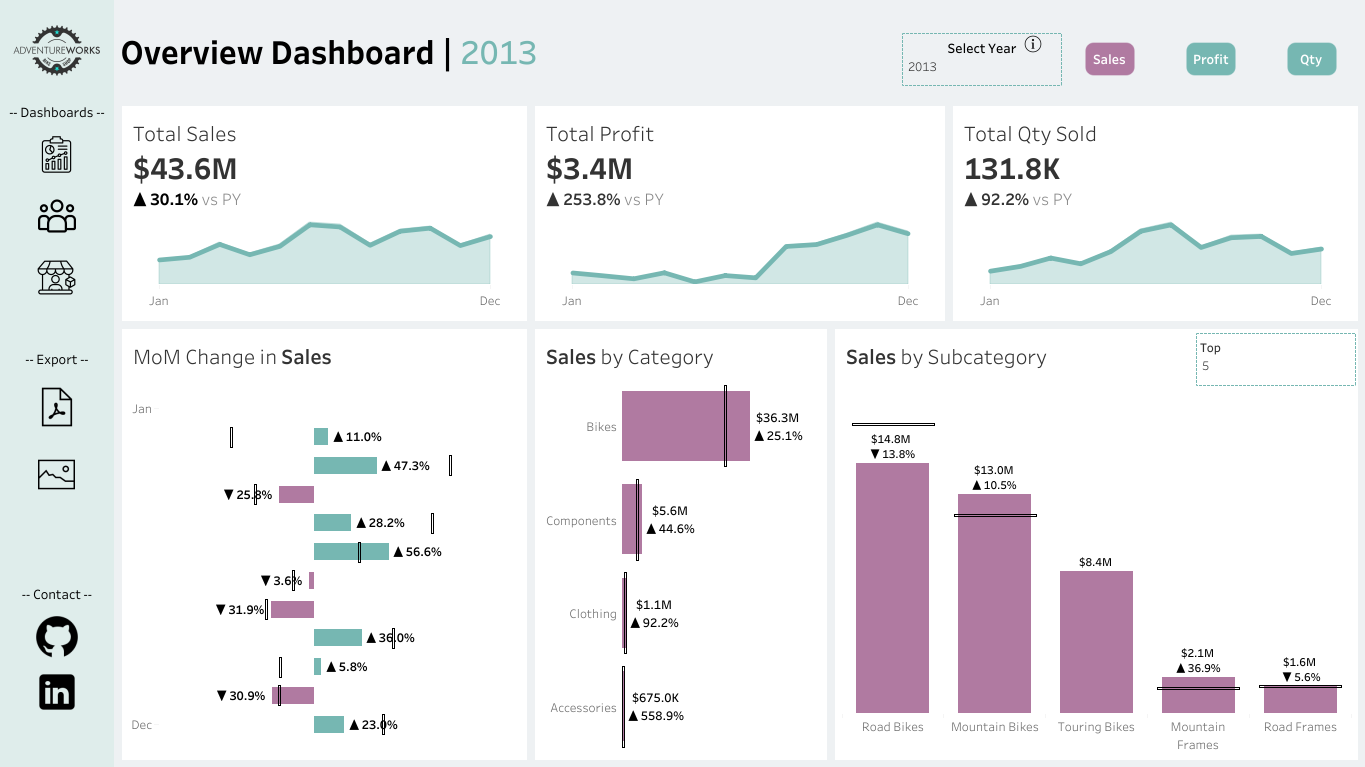

What the dashboard file says about the page in this screenshot:
{"tool":"tableau","page":{"name":"Overview Dashboard","canvas":[1366,768],"ordinal":1},"visuals":[{"type":"image","param":"/Users/yishakali/Desktop/Data Sci/06. Personal Projects/AdventureWorks Analytics","box":[0,0,114,102]},{"type":"text","box":[114,0,941,102]},{"type":"worksheet","title":"Sales Button","mark":"Shape","box":[1059,4,101,94]},{"type":"worksheet","title":"Profit Button","mark":"Shape","box":[1160,4,101,94]},{"type":"worksheet","title":"Qty Button","mark":"Shape","box":[1261,4,101,94]},{"type":"parameter","param":"[Parameters].[Parameter 1]","box":[902,33,160,53]},{"type":"dashboard-object","box":[1021,37,25,18]},{"type":"text","box":[120,79,462,30]},{"type":"text","box":[0,102,114,18]},{"type":"worksheet","title":"Sales by Month","mark":"Area","rows":["Calculation_421297721600684035","Calculation_421297721600684035"],"cols":["orderdate"],"box":[114,102,417.3,223]},{"type":"worksheet","title":"Profit by Month","mark":"Area","rows":["Calculation_1023231959373361153","Calculation_1023231959373361153"],"cols":["orderdate"],"box":[531.3,102,417.3,223]},{"type":"worksheet","title":"Quantity by Month","mark":"Area","rows":["CY Profit (copy)_1243415759939334146","CY Profit (copy)_1243415759939334146"],"cols":["orderdate"],"box":[948.7,102,417.3,223]},{"type":"blank","box":[0,120,114,10]},{"type":"dashboard-object","box":[0,130,114,47]},{"type":"blank","box":[0,177,114,15]},{"type":"dashboard-object","box":[0,192,114,46]},{"type":"blank","box":[0,238,114,15]},{"type":"dashboard-object","box":[0,253,114,47]},{"type":"blank","box":[0,303,114,32]},{"type":"worksheet","title":"MoM Change","mark":"Bar","rows":["orderdate"],"box":[114,325,417,443]},{"type":"worksheet","title":"By Category","mark":"Bar","rows":["name (categories)"],"cols":["Calculation_1243415759945351177","CY Metric Condition (copy)_1369375812032851968"],"box":[531,325,300,443]},{"type":"worksheet","title":"By Subcategories","mark":"Bar","rows":["Calculation_1243415759945351177","CY Metric Condition (copy)_1369375812032851968"],"cols":["name (subcategories)"],"box":[831,325,535,443]},{"type":"parameter","param":"[Parameters].[Parameter 3]","box":[1196,333,160,53]},{"type":"blank","box":[0,335,114,10]},{"type":"text","box":[0,345,114,26]},{"type":"blank","box":[0,371,114,10]},{"type":"dashboard-object","box":[0,381,114,50]},{"type":"blank","box":[0,431,114,20]},{"type":"dashboard-object","box":[0,451,114,45]},{"type":"blank","box":[0,496,114,40]},{"type":"text","box":[4,580,106,26]},{"type":"image","param":"/Users/yishakali/Desktop/Data Sci/06. Personal Projects/AdventureWorks Analytics","box":[4,606,106,60]},{"type":"image","param":"/Users/yishakali/Desktop/Data Sci/06. Personal Projects/AdventureWorks Analytics","box":[4,666,106,50]}]}

Visuals, with their boxes in screenshot pixels (x1, y1, x2, y2), scaled from the page's 1366x768 canvas onto the 1365x767 screenshot:
image: x1=0, y1=0, x2=114, y2=102
text: x1=114, y1=0, x2=1054, y2=102
"Sales Button" worksheet (Shape marks): x1=1058, y1=4, x2=1159, y2=98
"Profit Button" worksheet (Shape marks): x1=1159, y1=4, x2=1260, y2=98
"Qty Button" worksheet (Shape marks): x1=1260, y1=4, x2=1361, y2=98
parameter: x1=901, y1=33, x2=1061, y2=86
dashboard-object: x1=1020, y1=37, x2=1045, y2=55
text: x1=120, y1=79, x2=582, y2=109
text: x1=0, y1=102, x2=114, y2=120
"Sales by Month" worksheet (Area marks): x1=114, y1=102, x2=531, y2=325
"Profit by Month" worksheet (Area marks): x1=531, y1=102, x2=948, y2=325
"Quantity by Month" worksheet (Area marks): x1=948, y1=102, x2=1364, y2=325
blank: x1=0, y1=120, x2=114, y2=130
dashboard-object: x1=0, y1=130, x2=114, y2=177
blank: x1=0, y1=177, x2=114, y2=192
dashboard-object: x1=0, y1=192, x2=114, y2=238
blank: x1=0, y1=238, x2=114, y2=253
dashboard-object: x1=0, y1=253, x2=114, y2=300
blank: x1=0, y1=303, x2=114, y2=335
"MoM Change" worksheet (Bar marks): x1=114, y1=325, x2=531, y2=766
"By Category" worksheet (Bar marks): x1=531, y1=325, x2=830, y2=766
"By Subcategories" worksheet (Bar marks): x1=830, y1=325, x2=1364, y2=766
parameter: x1=1195, y1=333, x2=1355, y2=385
blank: x1=0, y1=335, x2=114, y2=345
text: x1=0, y1=345, x2=114, y2=371
blank: x1=0, y1=371, x2=114, y2=381
dashboard-object: x1=0, y1=381, x2=114, y2=430
blank: x1=0, y1=430, x2=114, y2=450
dashboard-object: x1=0, y1=450, x2=114, y2=495
blank: x1=0, y1=495, x2=114, y2=535
text: x1=4, y1=579, x2=110, y2=605
image: x1=4, y1=605, x2=110, y2=665
image: x1=4, y1=665, x2=110, y2=715
